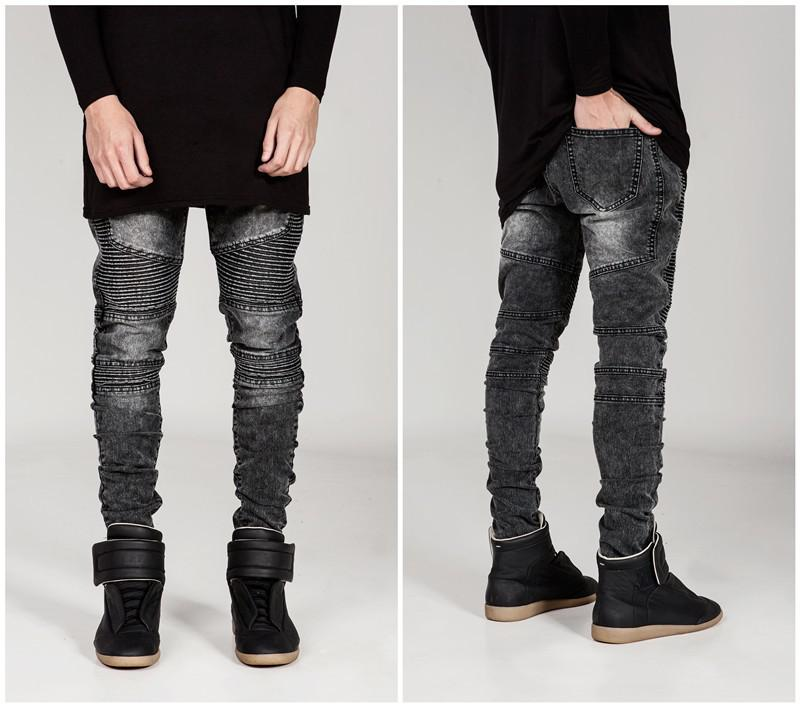jeans: (429, 57, 697, 595), (61, 50, 313, 564)
